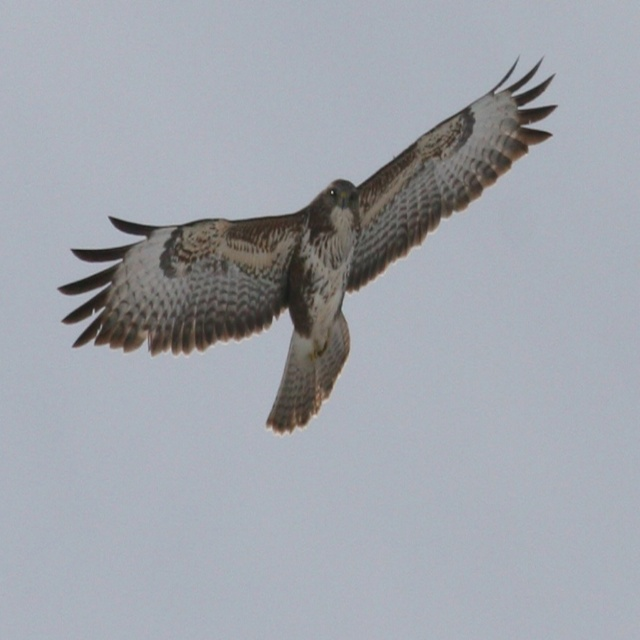Eagle: (57, 54, 558, 436)
